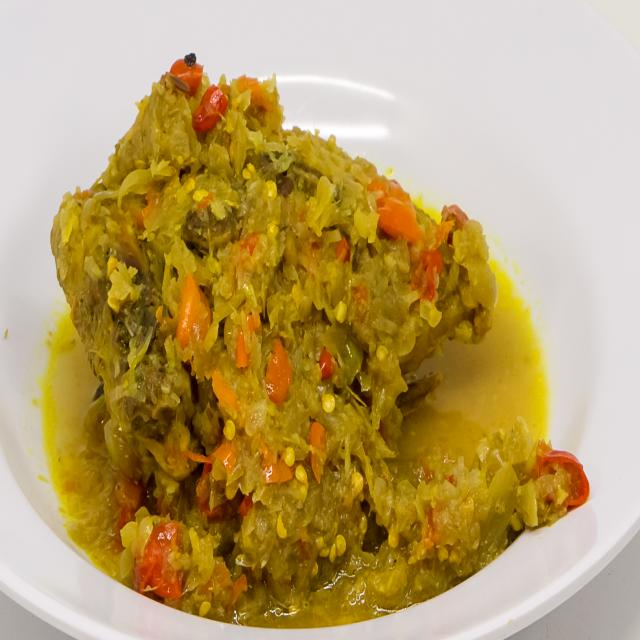Ayam-Betutu: (39, 21, 546, 608)
